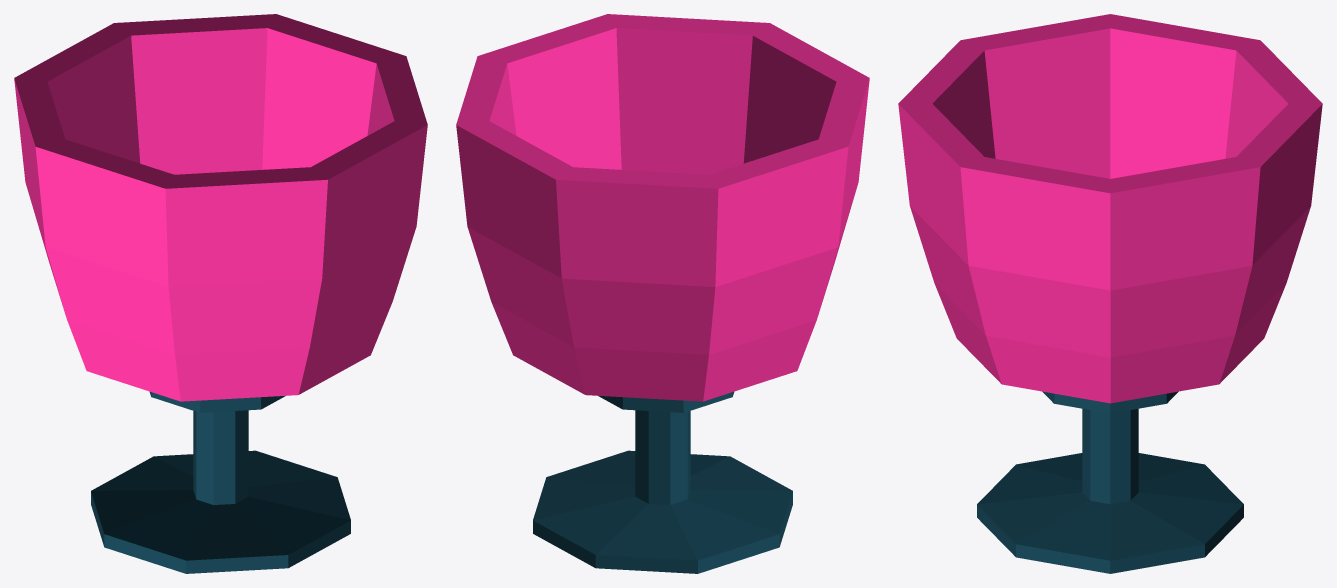
Rendered from Cup 7.fbx.
The picture shows the model from 3 angles, left to right: view 1: azimuth 30°, elevation 25°; view 2: azimuth 150°, elevation 25°; view 3: azimuth 270°, elevation 25°; orthographic projection.
Visible parts, largest first — view 1: Node 0; view 2: Node 0; view 3: Node 0.
Part boxes in pixels (left/top/right/bottom): Node 0: left=14, top=14, right=427, bottom=573; Node 0: left=456, top=14, right=869, bottom=573; Node 0: left=898, top=14, right=1322, bottom=573.
Bounding box in the file's own units: 0.1472 × 0.1584 × 0.1472.
